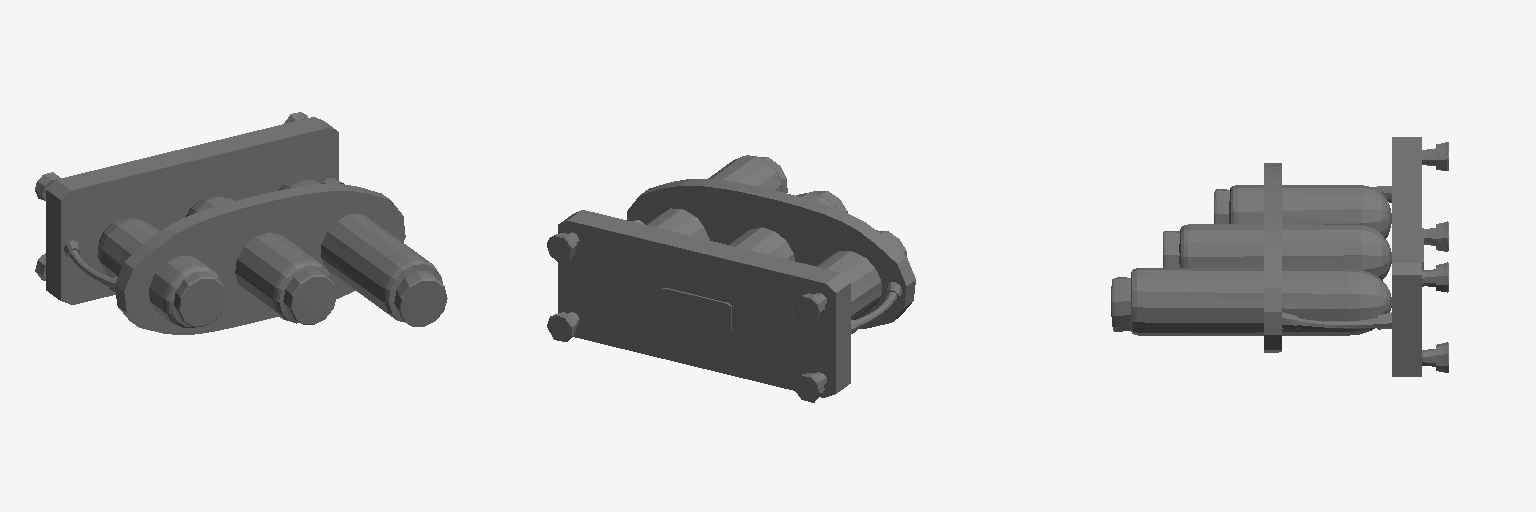
Rendered from Tubes.obj.
3 renders of one model, left to right at view 1: azimuth 30°, elevation 25°; view 2: azimuth 150°, elevation 25°; view 3: azimuth 270°, elevation 25°, orthographic.
Parts seen in each view (by area): view 1: Tubes; view 2: Tubes; view 3: Tubes.
Boxes of the visible parts, x1=… form: Tubes: x1=35, y1=112, x2=447, y2=334; Tubes: x1=547, y1=155, x2=915, y2=402; Tubes: x1=1111, y1=137, x2=1448, y2=376.
Size of the model in its own units: 153 by 60.85 by 158.